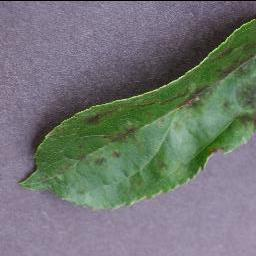apple healthy: (17, 7, 255, 212)
